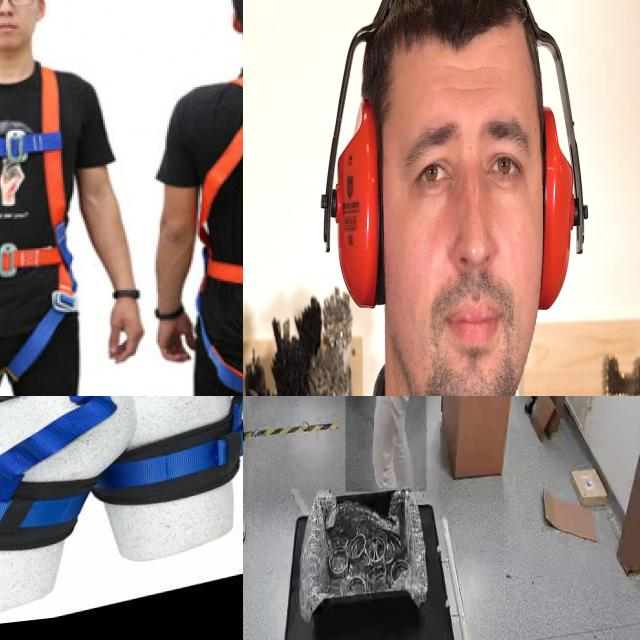Ear-protection: (312, 0, 598, 396)
Harness: (0, 396, 243, 550), (0, 59, 84, 392), (187, 68, 243, 390)
No_Glasses: (384, 88, 540, 243)
person: (265, 0, 640, 396), (345, 396, 426, 492)
